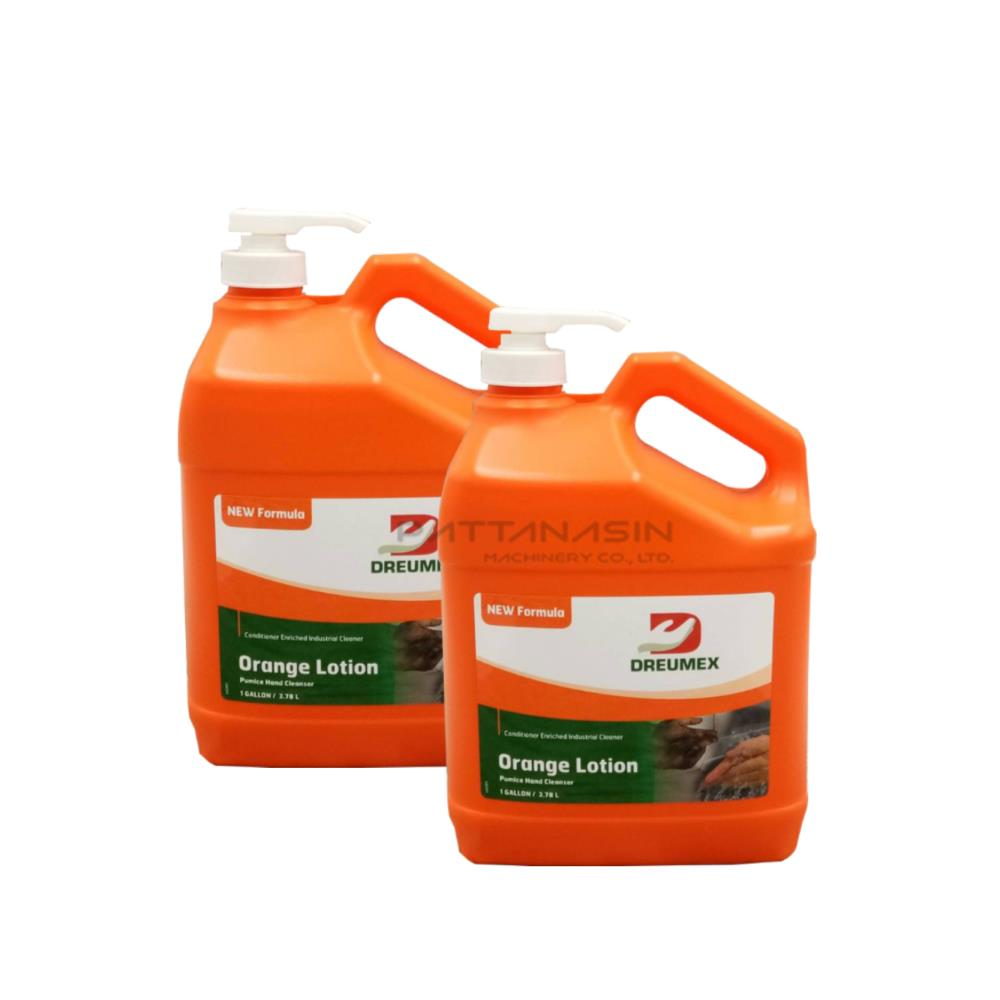Cleaning_solution: (427, 291, 831, 877), (175, 197, 523, 782)
